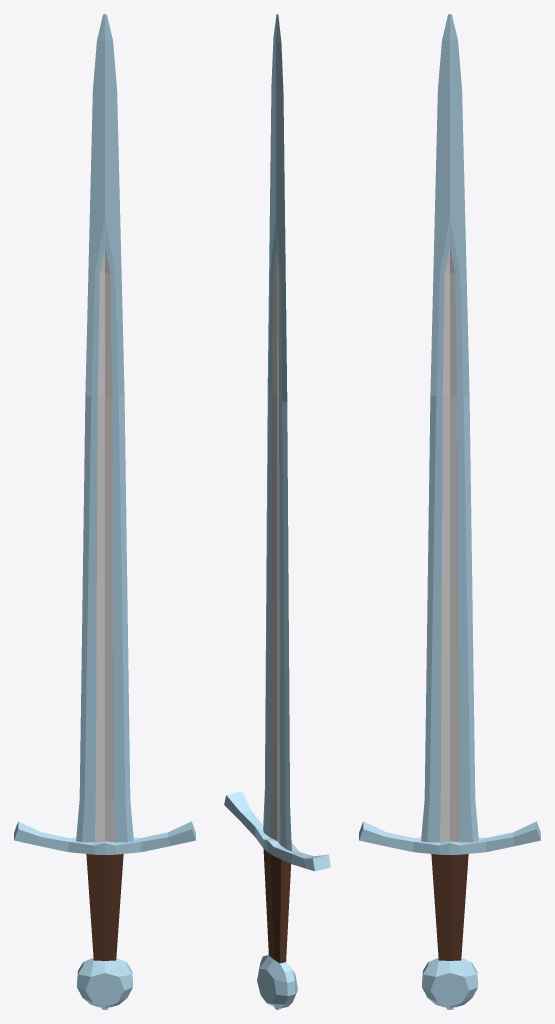
File: arming sword.fbx
3 renders of one model, left to right at view 1: azimuth 90°, elevation 25°; view 2: azimuth 210°, elevation 25°; view 3: azimuth 270°, elevation 25°, orthographic.
Parts seen in each view (by area): view 1: Arming Sword; view 2: Arming Sword; view 3: Arming Sword.
Part boxes in pixels (x1,y1,x2,y2): Arming Sword: [14, 14, 195, 1009]; Arming Sword: [224, 14, 330, 1009]; Arming Sword: [359, 14, 540, 1009].
Size of the model in its own units: 0.0212 by 0.1545 by 0.9329.
